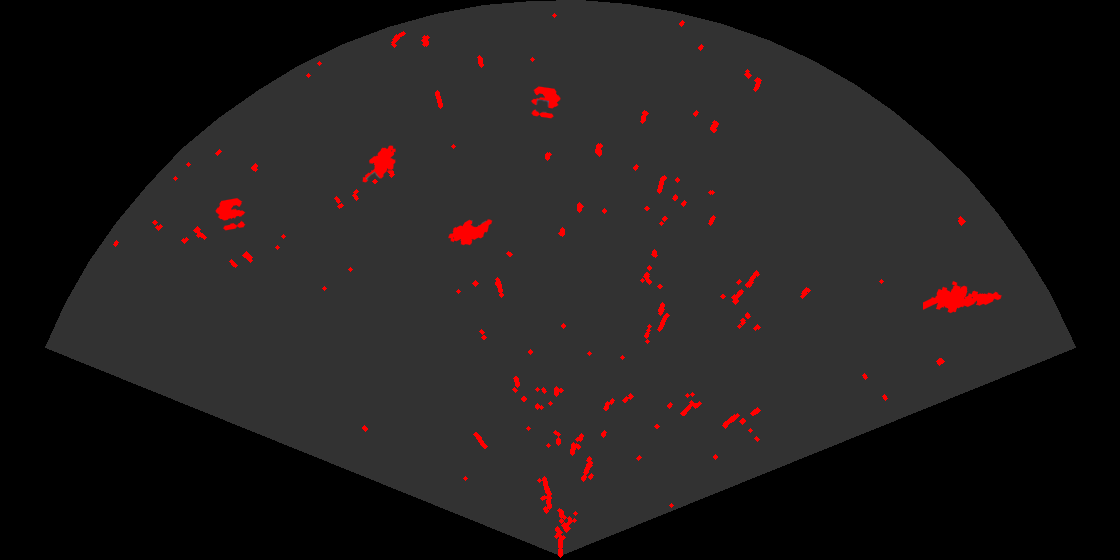AUV: (361, 144, 397, 184), (447, 218, 494, 247)
ball: (214, 196, 247, 232), (529, 85, 562, 120)
frogman: (923, 279, 1003, 315)
